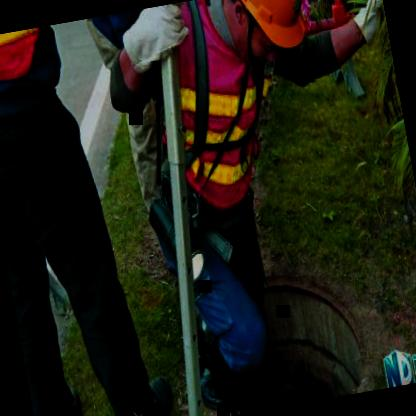helmet: (203, 0, 327, 72)
